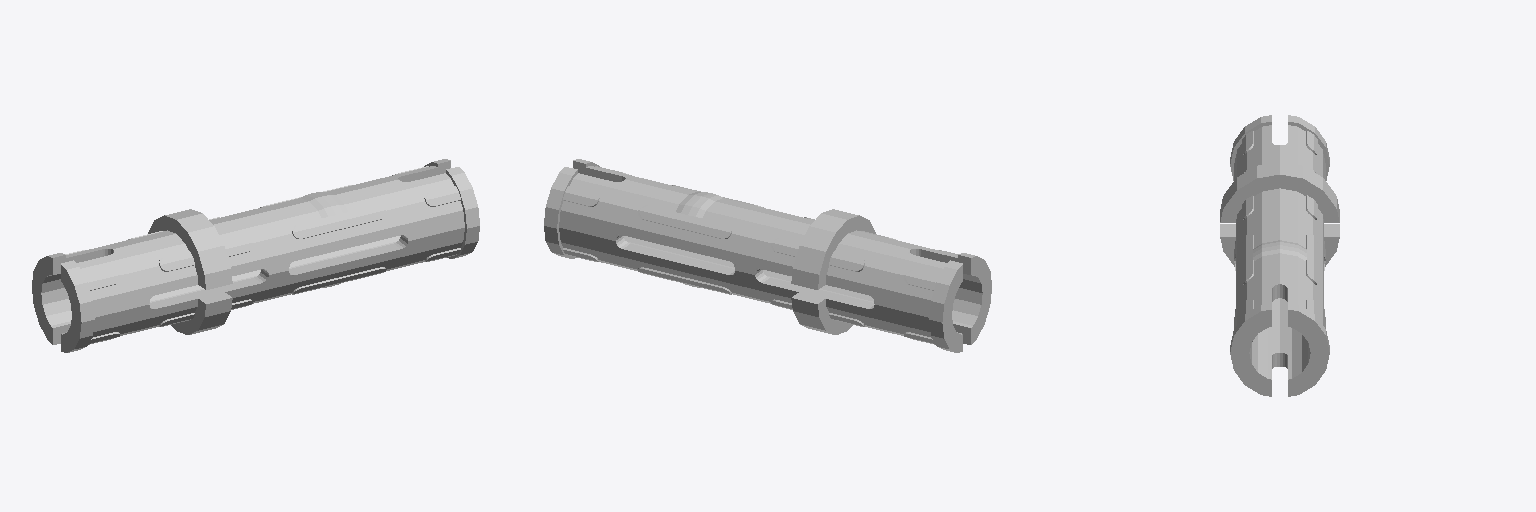
File: Piece004.obj
3 views of the same model, side by side, from view 1: azimuth 30°, elevation 25°; view 2: azimuth 150°, elevation 25°; view 3: azimuth 270°, elevation 25° (orthographic).
Visible parts, largest first — view 1: Piece000; view 2: Piece000; view 3: Piece000.
Boxes of the visible parts, <box> form: Piece000: <box>32,159,479,352</box>; Piece000: <box>544,159,991,352</box>; Piece000: <box>1220,115,1339,396</box>.
Bounding box in the file's own units: 60 × 16 × 15.6.